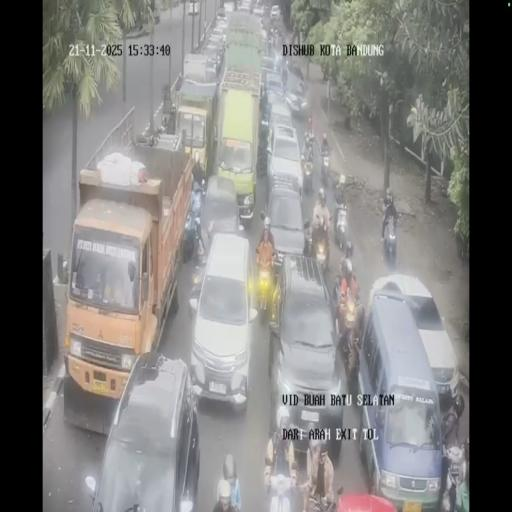car: (90, 352, 200, 510), (267, 257, 342, 453), (189, 230, 258, 408), (368, 275, 458, 404), (197, 174, 239, 262), (263, 185, 305, 262), (266, 102, 296, 154), (283, 66, 308, 116), (262, 69, 286, 110), (202, 42, 224, 77), (260, 51, 278, 76), (214, 15, 230, 39), (252, 0, 266, 16), (186, 0, 200, 16), (216, 3, 228, 19), (238, 0, 252, 13), (270, 4, 281, 20)
motorcycle: (336, 297, 364, 385), (255, 251, 278, 321), (380, 211, 398, 267), (183, 200, 198, 262), (312, 225, 330, 273), (334, 194, 349, 250), (301, 156, 314, 192), (302, 220, 314, 258), (320, 146, 331, 186), (269, 22, 282, 48), (303, 130, 312, 159)
truck: (172, 77, 218, 182), (222, 10, 264, 80)
